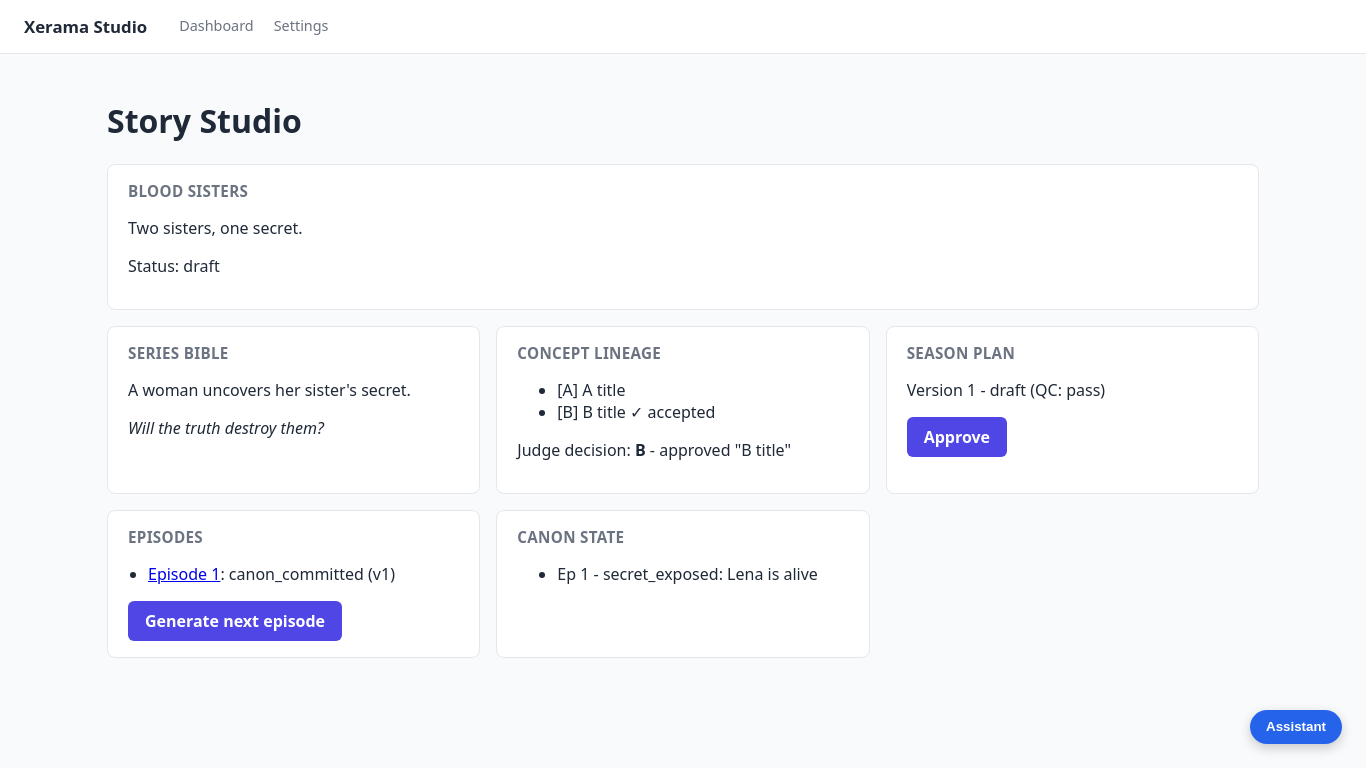
Story Studio (MODULE-057) › generating the next episode shows the returned QC badges
Click the button "Generate next episode": (235, 621) [128,601,342,641]
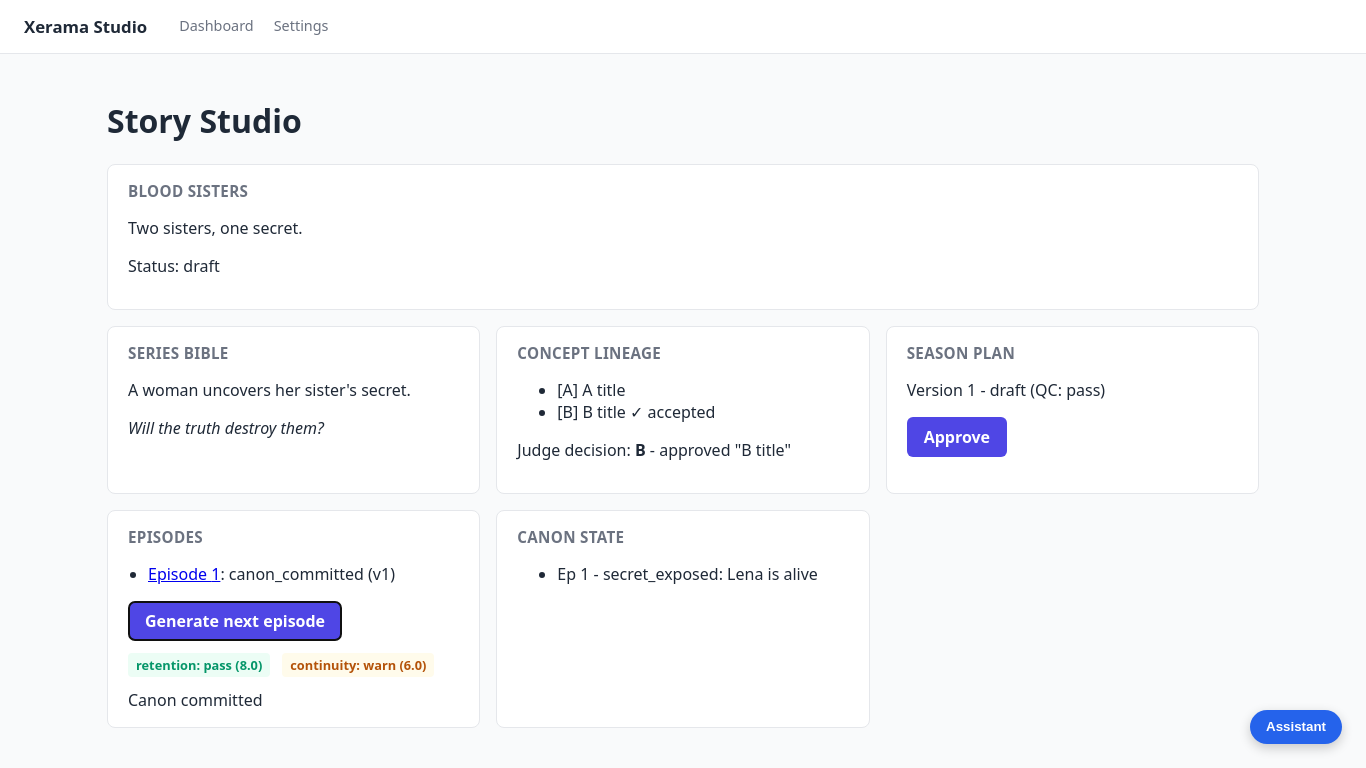
Now the text "retention: pass (8.0)" is shown, box [128,653,270,677]
Now the text "continuity: warn (6.0)" is shown, box [282,653,434,677]
Now the text "Canon committed" is shown, box [128,689,262,711]
